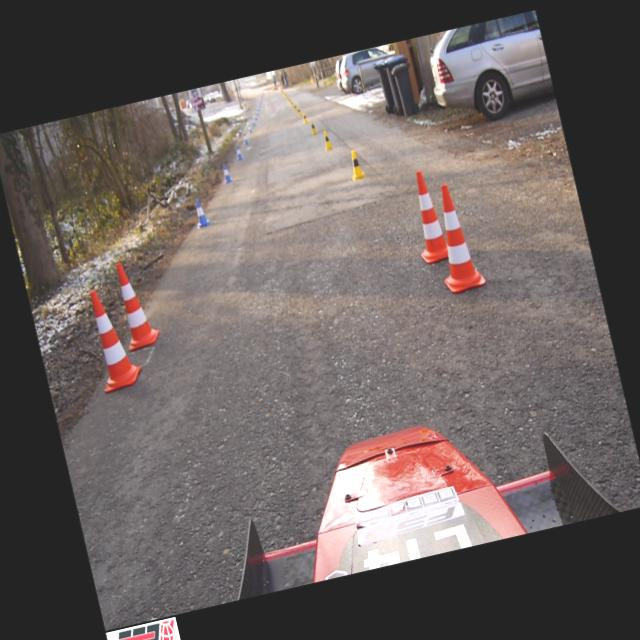blue_cone: (190, 196, 210, 228), (220, 162, 234, 184), (232, 143, 244, 161), (241, 132, 248, 144), (246, 122, 253, 132), (252, 113, 258, 120), (250, 118, 255, 126)
large_orange_cone: (423, 180, 486, 294), (82, 285, 144, 392), (108, 256, 162, 350), (402, 168, 452, 265)
yellow_cone: (346, 146, 365, 180), (320, 127, 333, 151), (308, 118, 318, 134), (301, 111, 308, 124), (296, 107, 302, 116), (292, 104, 297, 110)
